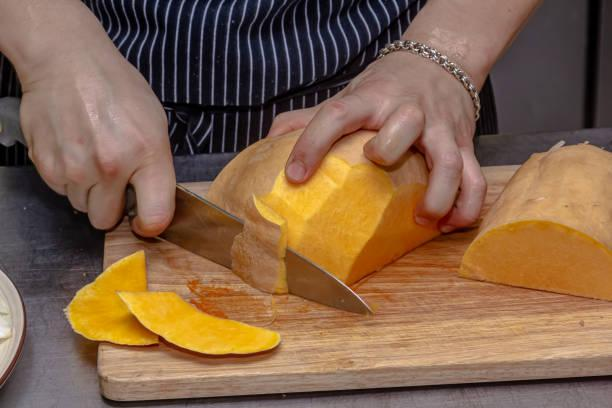organic: (116, 287, 284, 359), (62, 248, 161, 349), (227, 194, 299, 294)
